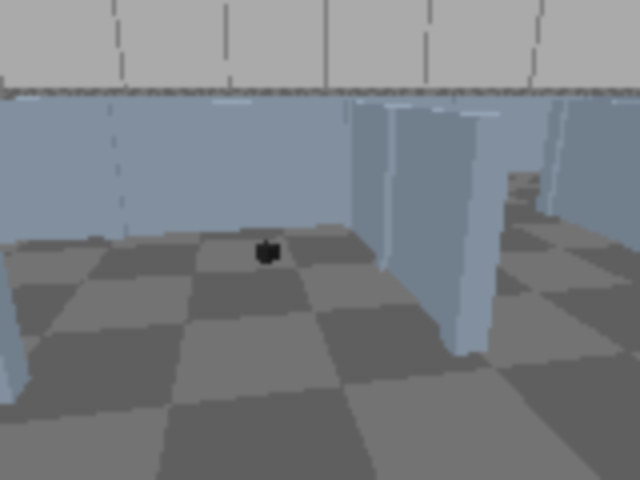puck: (255, 242, 279, 264)
